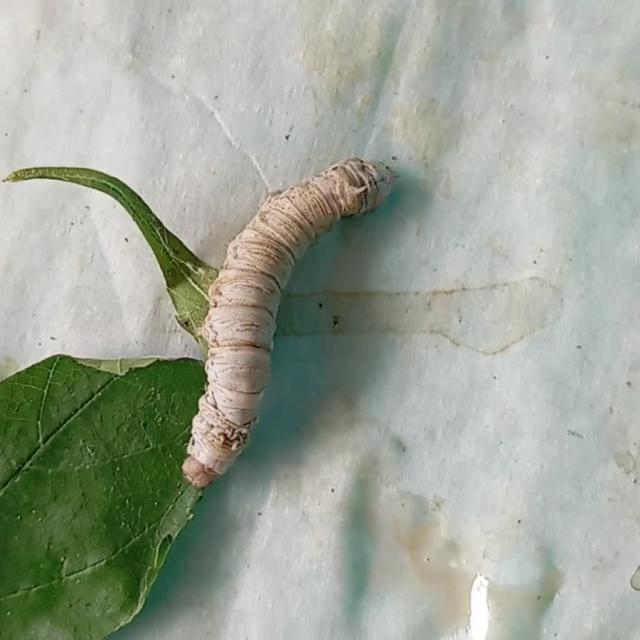Grasserie: (140, 117, 402, 507)
